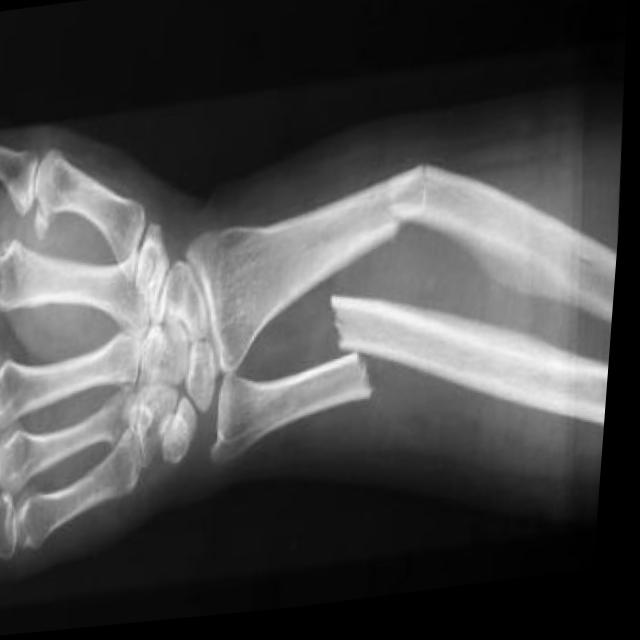fracture: (320, 280, 393, 433), (406, 157, 444, 243)
